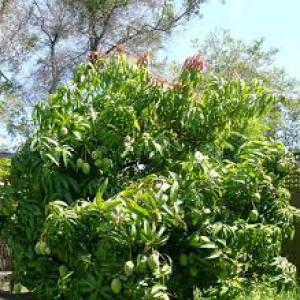Tree: (9, 39, 298, 295)
